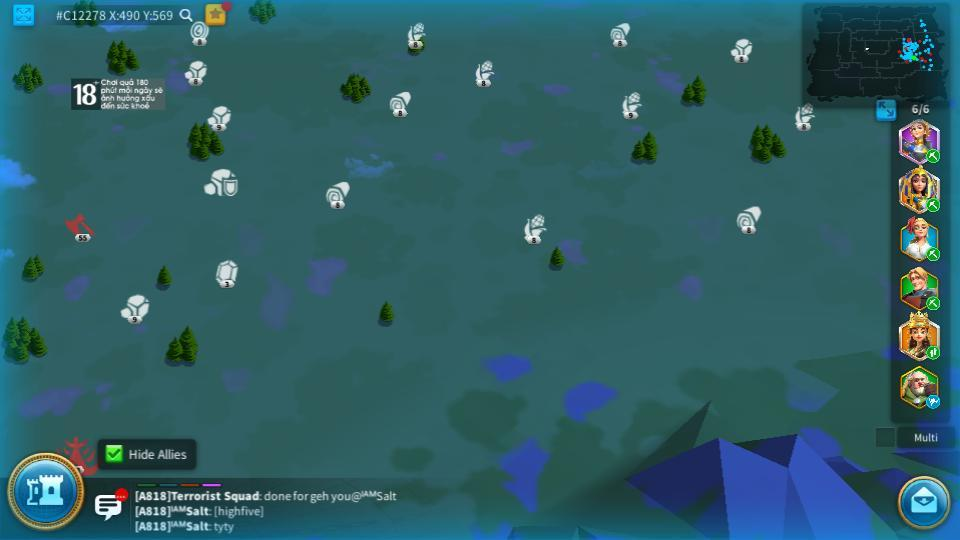gem-z-out: (214, 260, 240, 286)
march_farming: (924, 197, 939, 212), (925, 248, 941, 261)
march_idle: (925, 396, 942, 408)
march_marching: (925, 345, 941, 359), (925, 148, 941, 161), (925, 297, 941, 308)
